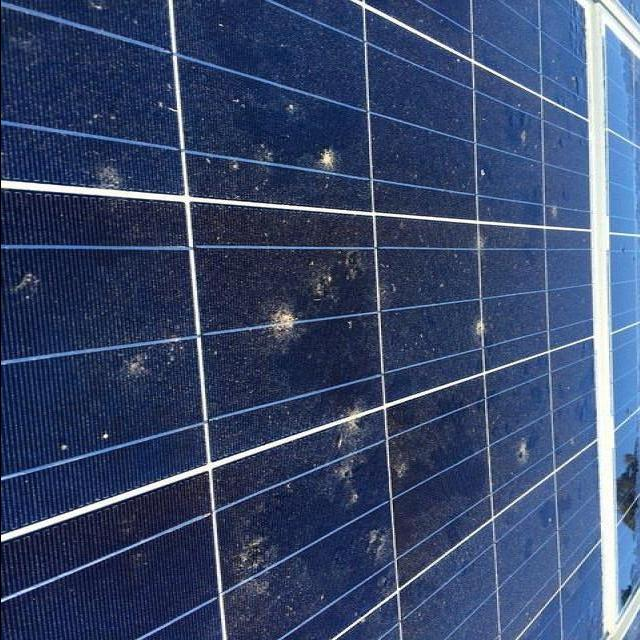soiled: (0, 8, 604, 638)
